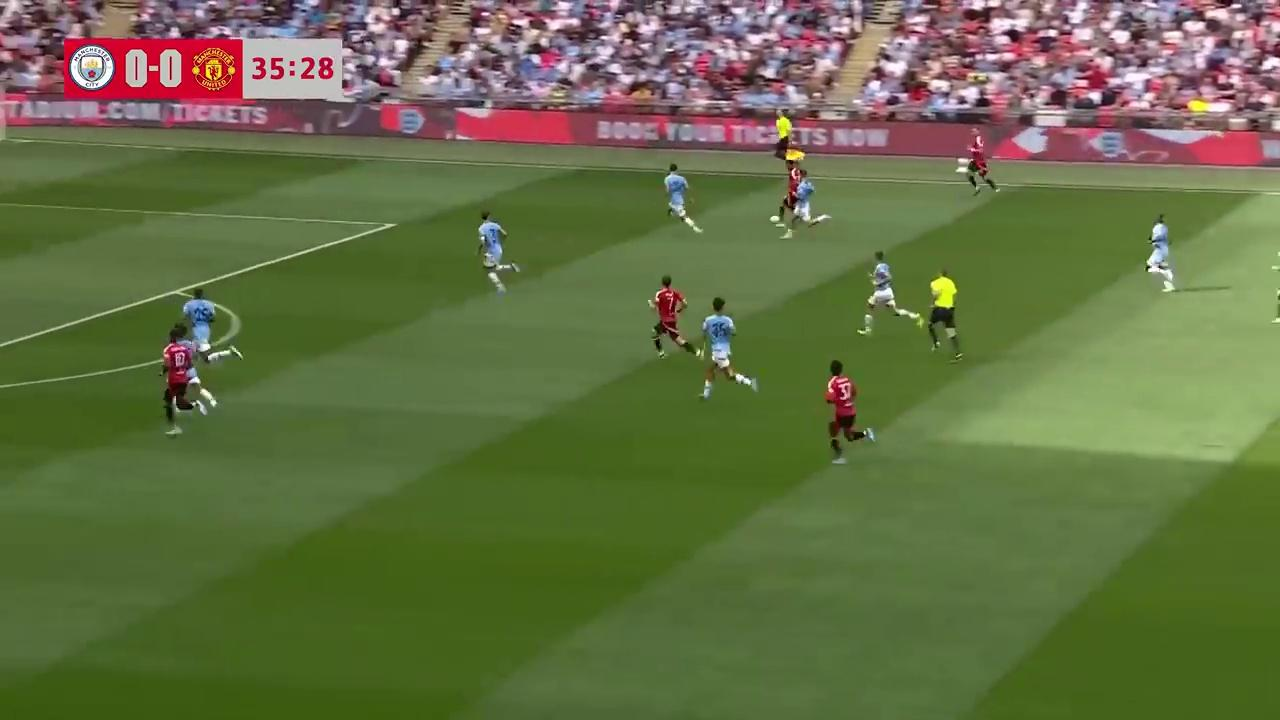player: (696, 298, 758, 401), (823, 359, 877, 465), (162, 335, 218, 428), (159, 327, 207, 435), (858, 250, 917, 335), (476, 211, 519, 296), (648, 275, 690, 359), (780, 164, 825, 238), (183, 289, 223, 363), (1145, 213, 1178, 292), (663, 164, 701, 230), (769, 162, 801, 238), (962, 143, 999, 195), (962, 144, 999, 195), (1270, 235, 1280, 334)
referee: (918, 267, 963, 360), (773, 118, 800, 164)
